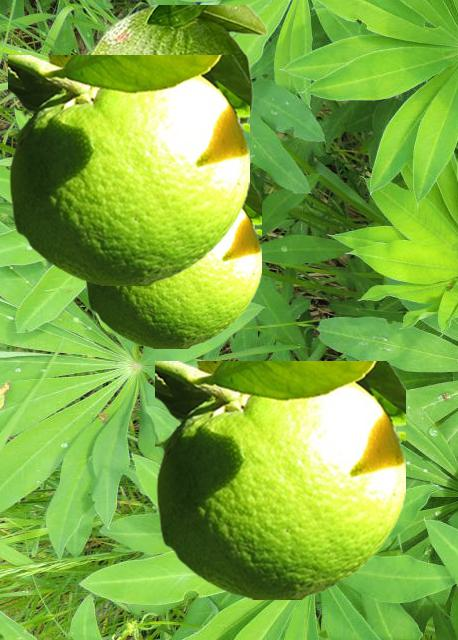dalandan: (155, 361, 404, 598), (8, 55, 248, 284), (84, 179, 260, 347), (87, 5, 267, 121)
